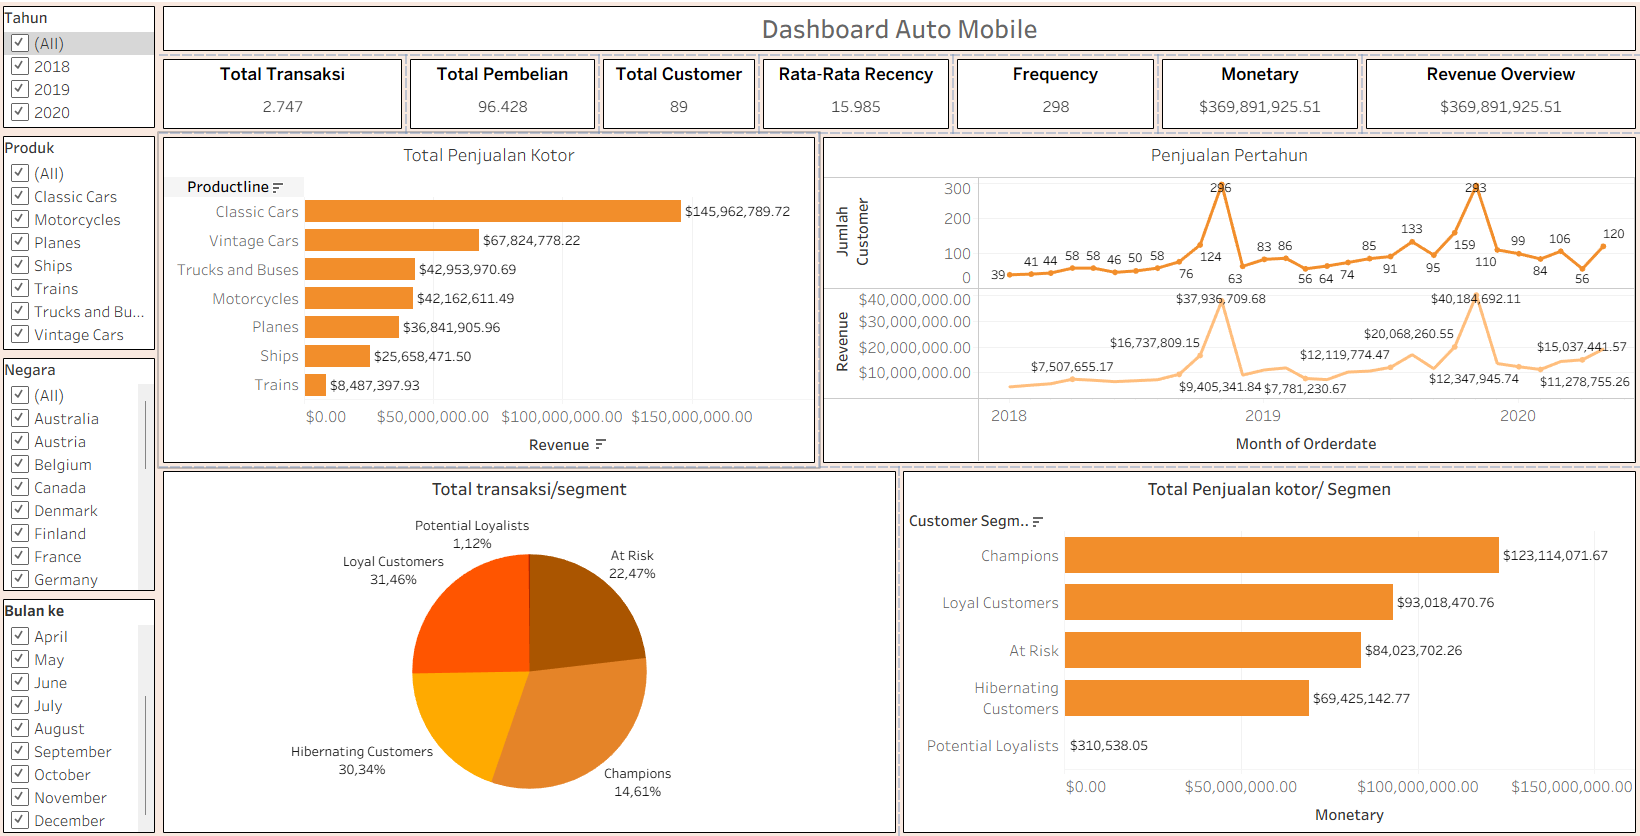

The page's visual inventory and layout, read from the dashboard file:
{"tool":"tableau","page":{"name":"Dashboard 1","canvas":[1000,1000],"units":"permille","ordinal":0},"visuals":[{"type":"filter","title":"Line1","param":"[federated.0fwpxly1metzig10je51g0g272l6].[yr:ORDERDATE:ok]","box":[4.8,9.4,96.6,152.8]},{"type":"text","box":[101.4,9.4,893.8,62.3]},{"type":"worksheet","title":"Cart5","mark":"Automatic","box":[101.4,71.7,149,91.7]},{"type":"worksheet","title":"Cart6","mark":"Automatic","box":[250.4,71.7,116.6,91.7]},{"type":"worksheet","title":"Cart7","mark":"Automatic","box":[366.9,71.7,96.6,91.7]},{"type":"worksheet","title":"Cart1","mark":"Automatic","box":[463.5,71.7,117.1,91.7]},{"type":"worksheet","title":"Cart2","mark":"Automatic","box":[580.6,71.7,123.7,91.7]},{"type":"worksheet","title":"Cart3","mark":"Automatic","box":[704.3,71.7,123.1,91.7]},{"type":"worksheet","title":"Cart4","mark":"Automatic","box":[827.4,71.7,167.8,91.7]},{"type":"filter","title":"Line1","param":"[federated.0fwpxly1metzig10je51g0g272l6].[none:PRODUCTLINE:nk]","box":[4.8,162.2,96.6,260.9]},{"type":"worksheet","title":"Bar1","mark":"Automatic","rows":["PRODUCTLINE"],"cols":["Calculation_0886537515814922"],"box":[101.4,163.3,398.3,392.5]},{"type":"worksheet","title":"Line1","mark":"Automatic","rows":["ORDERLINENUMBER","Calculation_0886537515814922"],"cols":["ORDERDATE"],"box":[499.7,163.3,495.5,392.5]},{"type":"filter","title":"Bar2","param":"[federated.0fwpxly1metzig10je51g0g272l6].[none:COUNTRY:nk]","box":[4.8,423,96.6,283.8]},{"type":"worksheet","title":"Bar3","mark":"Pie","box":[101.4,555.8,446.9,434.8]},{"type":"worksheet","title":"Bar2","mark":"Automatic","rows":["Calculation_0886537514835977"],"cols":["Calculation_0886537512919047"],"box":[548.3,555.8,446.9,434.8]},{"type":"filter","title":"Bar3","param":"[federated.0fwpxly1metzig10je51g0g272l6].[mn:ORDERDATE:ok]","box":[4.8,706.8,96.6,283.8]}]}

Visuals, with their boxes on the dashboard's canvas, which has no fixed pixel size, in thousandths of its width and height (x1, y1, x2, y2). These are canvas units, not pixel positions in the 1640x836 screenshot, which may show the page scaled, cropped or inside an application window:
"Line1" filter: 5,9,101,162
text: 101,9,995,72
"Cart5" worksheet: 101,72,250,163
"Cart6" worksheet: 250,72,367,163
"Cart7" worksheet: 367,72,464,163
"Cart1" worksheet: 464,72,581,163
"Cart2" worksheet: 581,72,704,163
"Cart3" worksheet: 704,72,827,163
"Cart4" worksheet: 827,72,995,163
"Line1" filter: 5,162,101,423
"Bar1" worksheet: 101,163,500,556
"Line1" worksheet: 500,163,995,556
"Bar2" filter: 5,423,101,707
"Bar3" worksheet (Pie marks): 101,556,548,991
"Bar2" worksheet: 548,556,995,991
"Bar3" filter: 5,707,101,991
